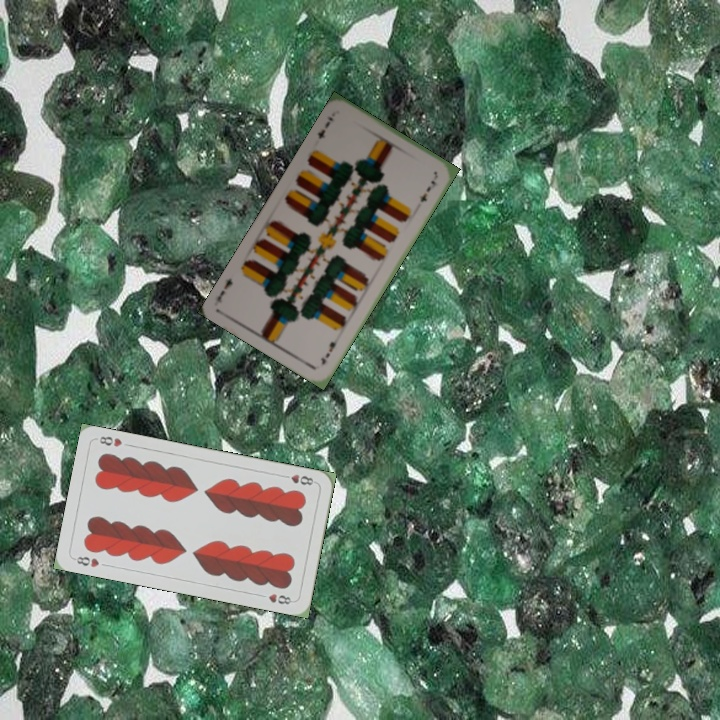E7: (316, 332, 342, 368), (313, 112, 336, 141)
H8: (278, 470, 318, 488), (70, 552, 102, 570)
